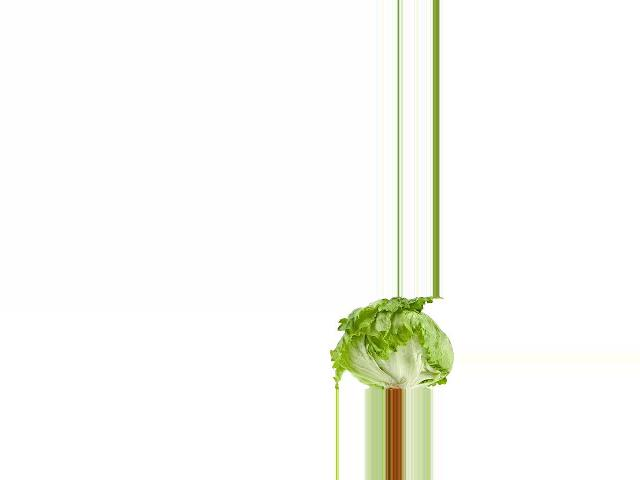lettuce: (325, 297, 457, 390)
